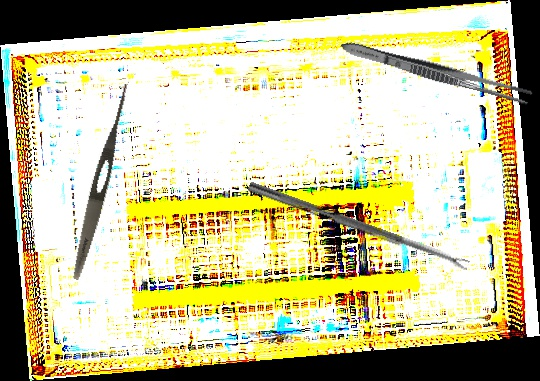Dressing Forceps: (338, 37, 535, 107), (68, 79, 134, 282)
Surgical Spoon: (247, 181, 470, 272)
